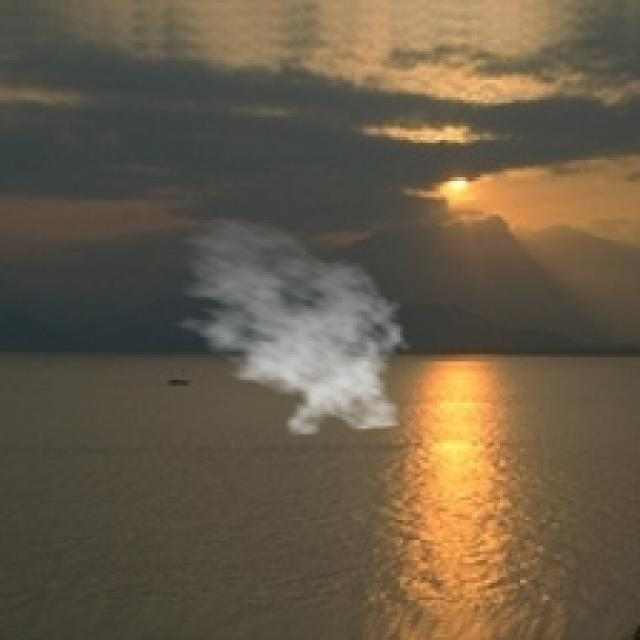smoke: (163, 214, 414, 437)
